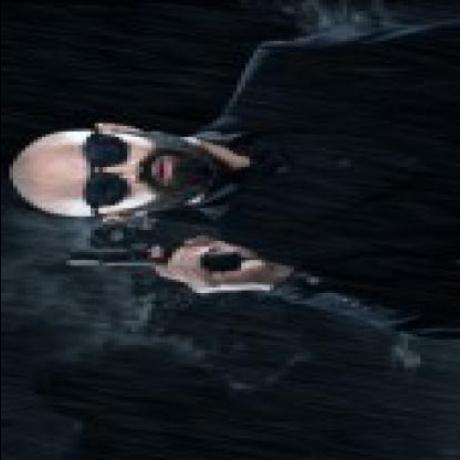1: (2, 25, 452, 349)
weapon: (62, 233, 248, 279)
